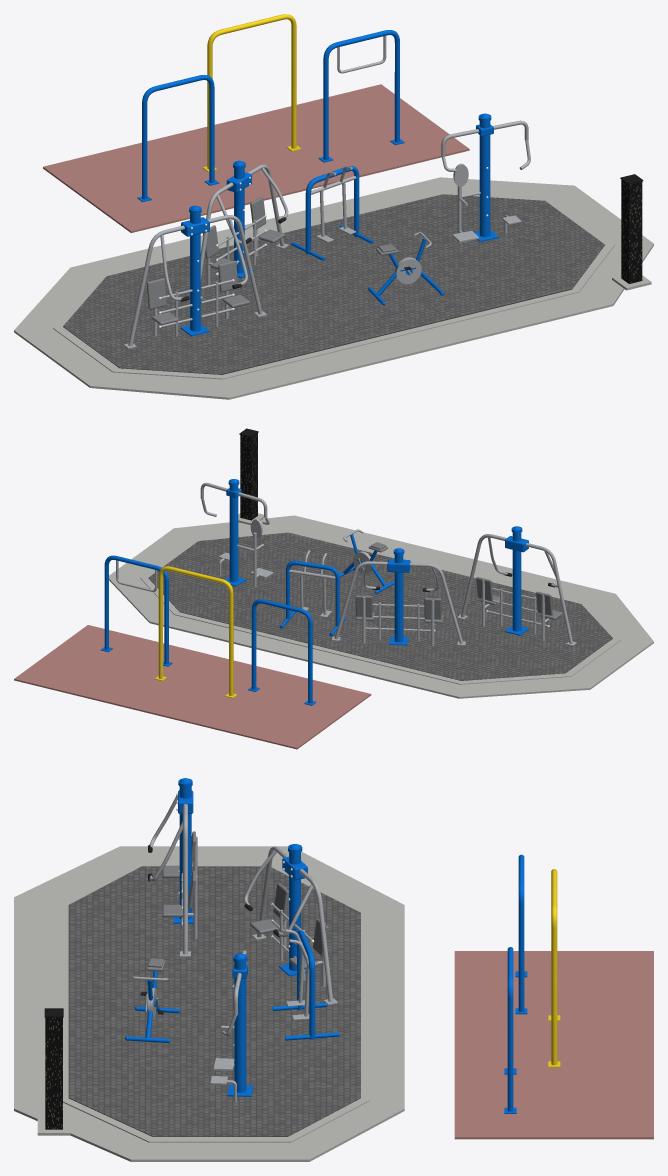
The model's file is fasor.glb.
3 renders of one model, top to bottom at view 1: azimuth 30°, elevation 25°; view 2: azimuth 150°, elevation 25°; view 3: azimuth 270°, elevation 25°, orthographic. The views are drawn at different scales.
Visible parts, largest first — view 1: Lantai_Paving, Lantai_Merah_PullUp, Trotoar_Beton, Kerb_Beton, Pilar_Hitam, Gawang_Kuning_Tengah_Rangka, Gawang_Biru_Kanan_Rangka, Gawang_Biru_Kiri_Rangka, D_Tiang, A_Tiang, E_RangkaU, B_Tiang (+2 smaller); view 2: Lantai_Paving, Lantai_Merah_PullUp, Trotoar_Beton, Kerb_Beton, Gawang_Kuning_Tengah_Rangka, Pilar_Hitam, Gawang_Biru_Kiri_Rangka, Gawang_Biru_Kanan_Rangka, D_Tiang, A_Tiang, B_Tiang, E_RangkaU (+1 smaller); view 3: Lantai_Paving, Lantai_Merah_PullUp, Trotoar_Beton, Kerb_Beton, Pilar_Hitam, D_Tiang, Gawang_Kuning_Tengah_Rangka, Gawang_Biru_Kanan_Rangka, Gawang_Biru_Kiri_Rangka, E_RangkaU, B_Tiang, A_Tiang (+2 smaller).
Boxes of the visible parts, <box> form: Lantai_Paving: <box>63,194,604,374</box>; Lantai_Merah_PullUp: <box>43,84,469,232</box>; Trotoar_Beton: <box>14,177,653,399</box>; Kerb_Beton: <box>53,191,614,379</box>; Pilar_Hitam: <box>621,179,642,283</box>; Gawang_Kuning_Tengah_Rangka: <box>207,14,296,168</box>; Gawang_Biru_Kanan_Rangka: <box>323,30,399,159</box>; Gawang_Biru_Kiri_Rangka: <box>142,75,214,199</box>; D_Tiang: <box>479,121,490,236</box>; A_Tiang: <box>190,213,200,331</box>; E_RangkaU: <box>305,166,359,254</box>; B_Tiang: <box>234,168,244,273</box>; Lantai_Paving: <box>148,532,612,680</box>; Lantai_Merah_PullUp: <box>14,625,371,749</box>; Trotoar_Beton: <box>109,515,653,698</box>; Kerb_Beton: <box>140,530,621,684</box>; Gawang_Kuning_Tengah_Rangka: <box>158,566,233,695</box>; Pilar_Hitam: <box>240,433,257,520</box>; Gawang_Biru_Kiri_Rangka: <box>251,599,312,703</box>; Gawang_Biru_Kanan_Rangka: <box>104,555,168,664</box>; D_Tiang: <box>229,485,238,582</box>; A_Tiang: <box>512,533,521,631</box>; B_Tiang: <box>394,554,403,642</box>; E_RangkaU: <box>286,560,339,626</box>; Lantai_Paving: <box>68,866,360,1136</box>; Lantai_Merah_PullUp: <box>454,951,653,1139</box>; Trotoar_Beton: <box>14,846,404,1161</box>; Kerb_Beton: <box>59,862,369,1142</box>; Pilar_Hitam: <box>45,1017,62,1129</box>; D_Tiang: <box>234,962,246,1092</box>; Gawang_Kuning_Tengah_Rangka: <box>551,869,557,1065</box>; Gawang_Biru_Kanan_Rangka: <box>507,947,513,1111</box>; Gawang_Biru_Kiri_Rangka: <box>518,854,524,1011</box>; E_RangkaU: <box>297,930,315,1039</box>; B_Tiang: <box>289,852,300,970</box>; A_Tiang: <box>179,786,191,919</box>.
Bounding box in the file's own units: 20.3 × 4.72 × 17.53.
11 materials, 2 textured.
